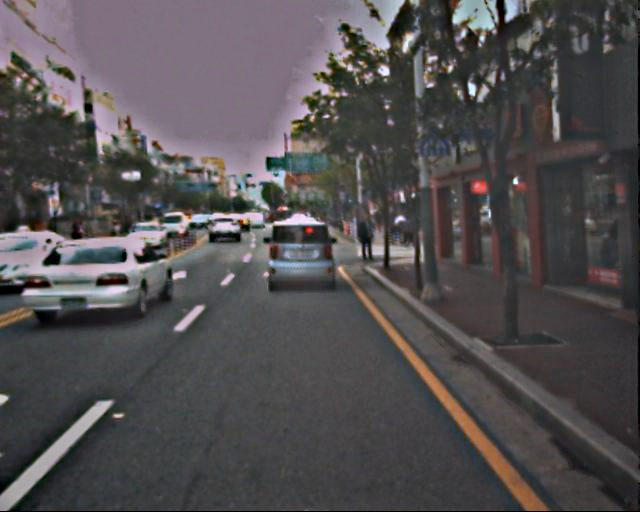person: (356, 209, 379, 264), (389, 213, 413, 247)
